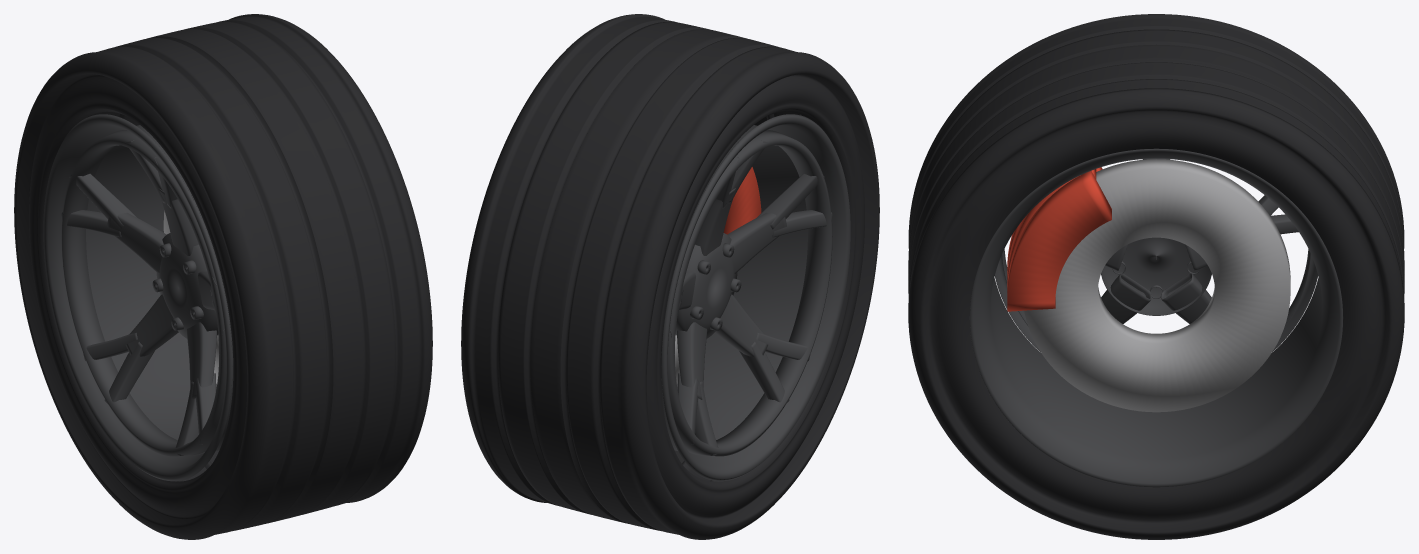
File: wheel_FL.fbx
3 views of the same model, side by side, from view 1: azimuth 30°, elevation 25°; view 2: azimuth 150°, elevation 25°; view 3: azimuth 270°, elevation 25° (orthographic).
Visible parts, largest first — view 1: CH_Wheel_FL_Tire, CH_Wheel_FL_Rim; view 2: CH_Wheel_FL_Tire, CH_Wheel_FL_Rim, CH_Wheel_FL_Caliper; view 3: CH_Wheel_FL_Tire, CH_Wheel_FL_Rim, CH_Wheel_FL_Disc, CH_Wheel_FL_Caliper.
Boxes of the visible parts, x1,y1,x2,y2 form: CH_Wheel_FL_Tire: (14, 14, 432, 539); CH_Wheel_FL_Rim: (43, 114, 233, 481); CH_Wheel_FL_Tire: (461, 14, 879, 539); CH_Wheel_FL_Rim: (660, 114, 850, 481); CH_Wheel_FL_Caliper: (723, 167, 761, 234); CH_Wheel_FL_Tire: (908, 14, 1404, 539); CH_Wheel_FL_Rim: (969, 148, 1343, 487); CH_Wheel_FL_Disc: (1024, 159, 1290, 412); CH_Wheel_FL_Caliper: (1007, 167, 1111, 311).
Bounding box in the file's own units: 0.3045 × 0.7215 × 0.7215.
